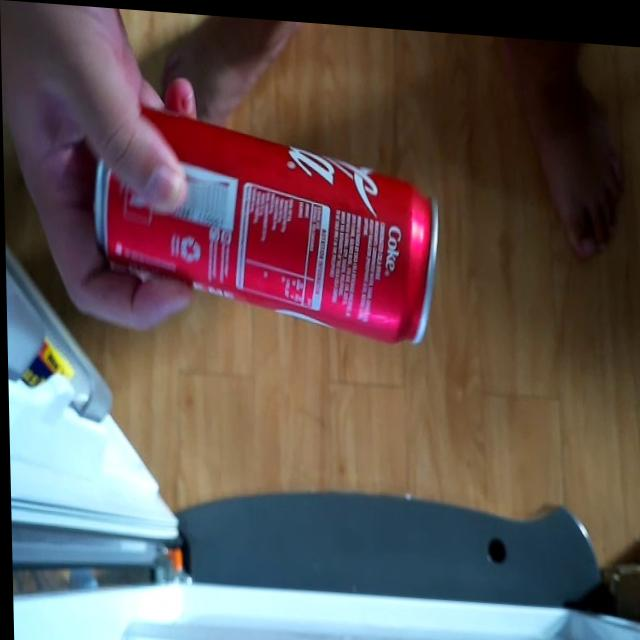coke: (84, 91, 447, 348)
